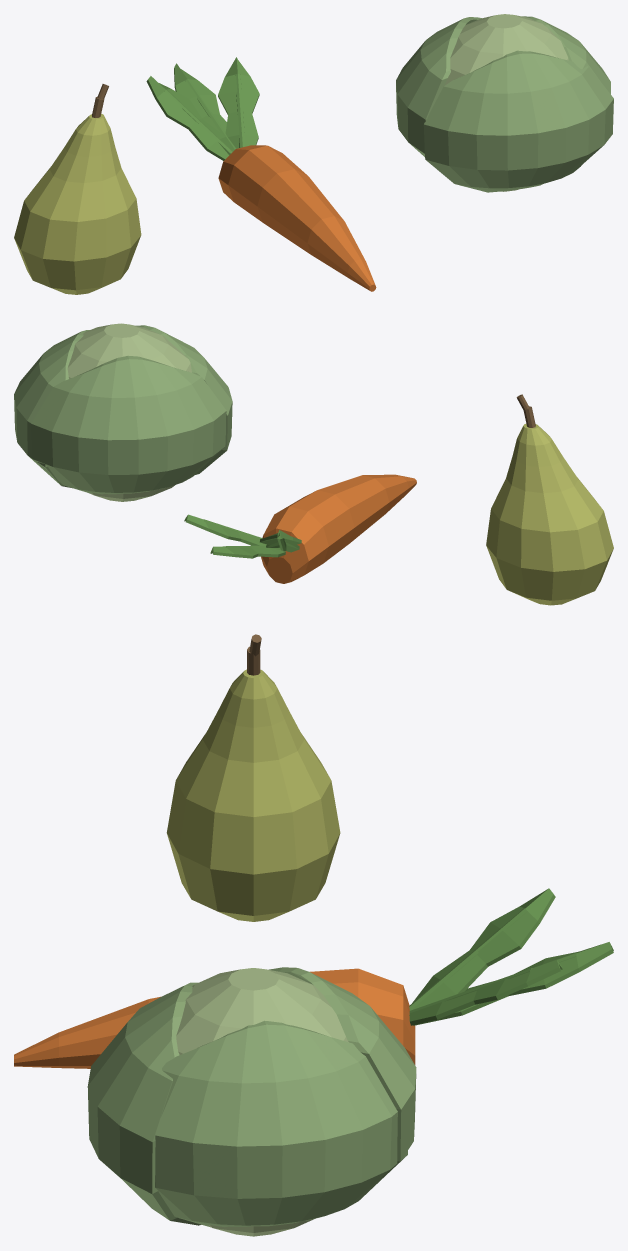
3 views of the same model, one above another, from view 1: azimuth 30°, elevation 25°; view 2: azimuth 150°, elevation 25°; view 3: azimuth 270°, elevation 25° (orthographic). The views are drawn at different scales.
Parts seen in each view (by area): view 1: Cabbage rolled outer leaf 2, Pear shouldered body, Carrot complete tapered root, Cabbage rolled outer leaf 1, Cabbage dense inner head, Carrot folded leaf 2, Carrot folded leaf 0, Carrot folded leaf 1, Cabbage rolled outer leaf 0, Carrot leaf stalk 2; view 2: Cabbage rolled outer leaf 1, Pear shouldered body, Carrot complete tapered root, Cabbage dense inner head, Cabbage rolled outer leaf 0, Cabbage rolled outer leaf 2, Carrot folded leaf 2, Carrot folded leaf 1, Carrot folded leaf 0; view 3: Cabbage rolled outer leaf 0, Pear shouldered body, Cabbage rolled outer leaf 2, Cabbage dense inner head, Carrot complete tapered root, Cabbage rolled outer leaf 1, Carrot folded leaf 0, Carrot folded leaf 2, Carrot folded leaf 1.
Boxes of the visible parts, x1=… form: Cabbage rolled outer leaf 2: x1=423, y1=50, x2=613, y2=192; Pear shouldered body: x1=14, y1=114, x2=141, y2=294; Carrot complete tapered root: x1=218, y1=145, x2=376, y2=291; Cabbage rolled outer leaf 1: x1=396, y1=17, x2=481, y2=156; Cabbage dense inner head: x1=444, y1=14, x2=568, y2=191; Carrot folded leaf 2: x1=218, y1=57, x2=259, y2=148; Carrot folded leaf 0: x1=146, y1=76, x2=234, y2=160; Carrot folded leaf 1: x1=174, y1=63, x2=226, y2=132; Cabbage rolled outer leaf 0: x1=522, y1=16, x2=610, y2=94; Carrot leaf stalk 2: x1=235, y1=74, x2=245, y2=147; Cabbage rolled outer leaf 1: x1=31, y1=355, x2=226, y2=494; Pear shouldered body: x1=486, y1=424, x2=613, y2=605; Carrot complete tapered root: x1=261, y1=474, x2=416, y2=583; Cabbage dense inner head: x1=67, y1=323, x2=191, y2=501; Cabbage rolled outer leaf 0: x1=14, y1=330, x2=89, y2=487; Cabbage rolled outer leaf 2: x1=136, y1=325, x2=232, y2=474; Carrot folded leaf 2: x1=184, y1=514, x2=266, y2=545; Carrot folded leaf 1: x1=210, y1=546, x2=285, y2=558; Carrot folded leaf 0: x1=260, y1=530, x2=301, y2=552; Cabbage rolled outer leaf 0: x1=155, y1=1020, x2=407, y2=1227; Pear shouldered body: x1=166, y1=669, x2=340, y2=921; Cabbage rolled outer leaf 2: x1=87, y1=982, x2=201, y2=1225; Cabbage dense inner head: x1=176, y1=968, x2=348, y2=1236; Carrot complete tapered root: x1=14, y1=968, x2=415, y2=1068; Cabbage rolled outer leaf 1: x1=269, y1=967, x2=416, y2=1180; Carrot folded leaf 0: x1=411, y1=888, x2=555, y2=1010; Carrot folded leaf 2: x1=409, y1=959, x2=562, y2=1025; Carrot folded leaf 1: x1=413, y1=942, x2=613, y2=1025.
Bounding box in the file's own units: 0.6684 × 0.2157 × 0.4007.
